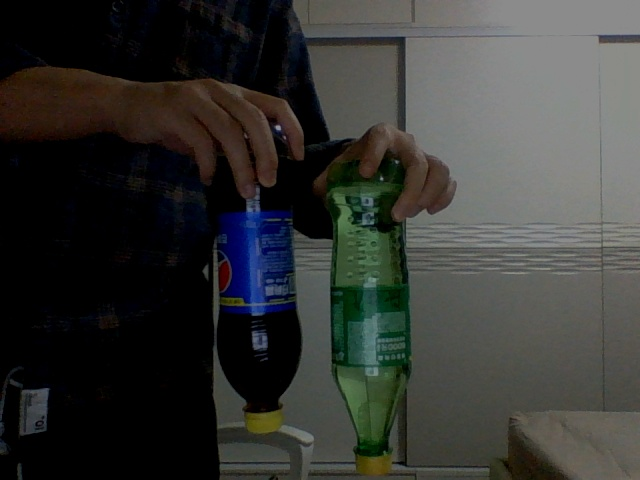Cola: (213, 126, 303, 434)
Sprite: (326, 153, 413, 471)
